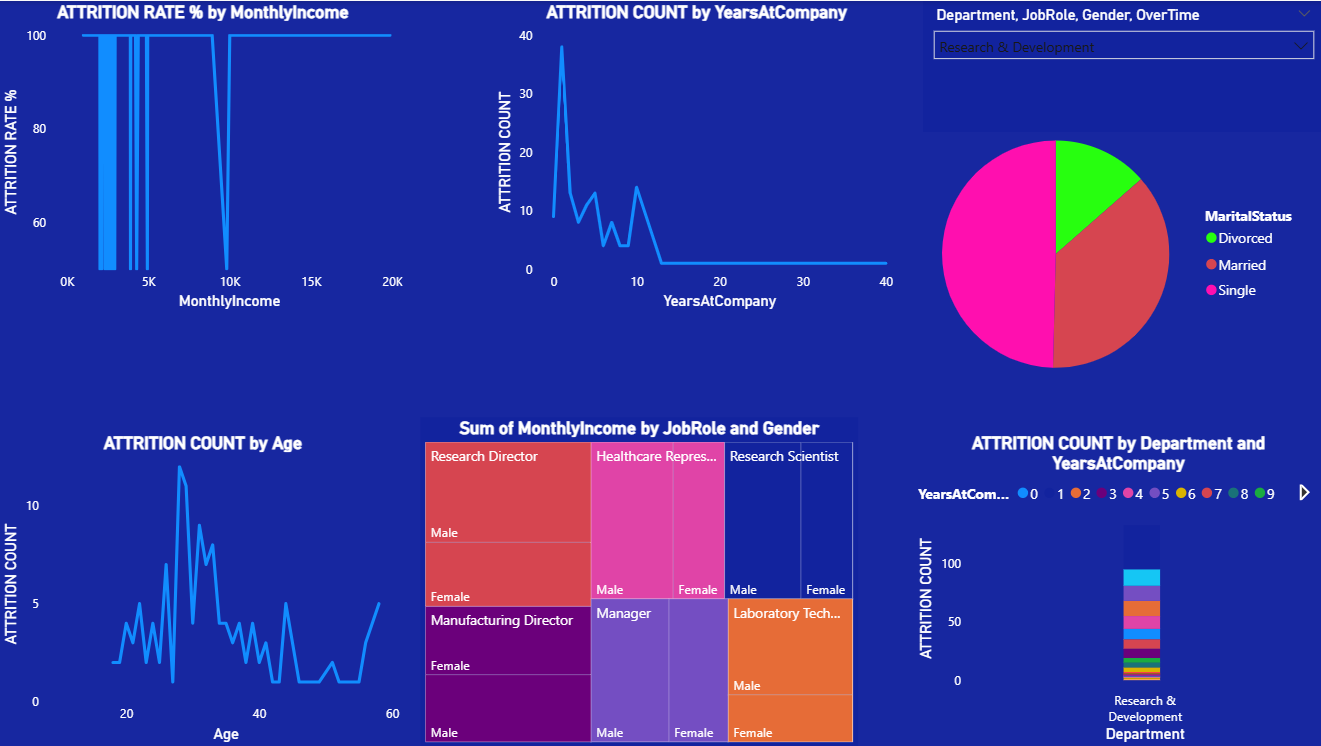

What the dashboard file says about the page in this screenshot:
{"tool":"powerbi","page":{"name":"Page 2","canvas":[1280,720],"ordinal":1},"visuals":[{"type":"lineChart","fields":{"Category":["HR.MonthlyIncome"],"Y":["HR.ATTRITION RATE %"]},"box":[0,0,395.7,302.8],"z":0},{"type":"lineChart","fields":{"Y":["HR.ATTRITION COUNT"],"Category":["HR.Age"]},"box":[0,416.2,395.7,304],"z":1},{"type":"lineChart","fields":{"Category":["HR.YearsAtCompany"],"Y":["HR.ATTRITION COUNT"]},"box":[476.5,0,395.7,302.8],"z":2},{"type":"ribbonChart","fields":{"Category":["HR.Department"],"Y":["HR.ATTRITION COUNT"],"Series":["HR.YearsAtCompany"]},"box":[883.1,416.2,396.9,304],"z":3},{"type":"treemap","fields":{"Group":["HR.JobRole"],"Values":["Sum(HR.MonthlyIncome)"],"Details":["HR.Gender"]},"box":[407.8,401.7,422.3,318.5],"z":4},{"type":"pieChart","fields":{"Y":["HR.ATTRITION COUNT"],"Series":["HR.MaritalStatus"]},"box":[872.3,83.5,396.5,303.3],"z":5},{"type":"slicer","fields":{"Values":["HR.Department","HR.JobRole","HR.Gender","HR.OverTime"]},"box":[892.7,0,387.3,126.7],"z":6}]}

Visuals, with their boxes in screenshot pixels (x1, y1, x2, y2), scaled from the page's 1280x720 canvas onto the 1321x746 screenshot:
lineChart - HR.MonthlyIncome x HR.ATTRITION RATE %: {"left": 0, "top": 0, "right": 408, "bottom": 314}
lineChart - HR.ATTRITION COUNT x HR.Age: {"left": 0, "top": 431, "right": 408, "bottom": 745}
lineChart - HR.YearsAtCompany x HR.ATTRITION COUNT: {"left": 492, "top": 0, "right": 900, "bottom": 314}
ribbonChart - HR.Department x HR.ATTRITION COUNT: {"left": 911, "top": 431, "right": 1320, "bottom": 745}
treemap - HR.JobRole x Sum(HR.MonthlyIncome): {"left": 421, "top": 416, "right": 857, "bottom": 745}
pieChart - HR.ATTRITION COUNT x HR.MaritalStatus: {"left": 900, "top": 87, "right": 1309, "bottom": 401}
slicer - HR.Department x HR.JobRole: {"left": 921, "top": 0, "right": 1320, "bottom": 131}
